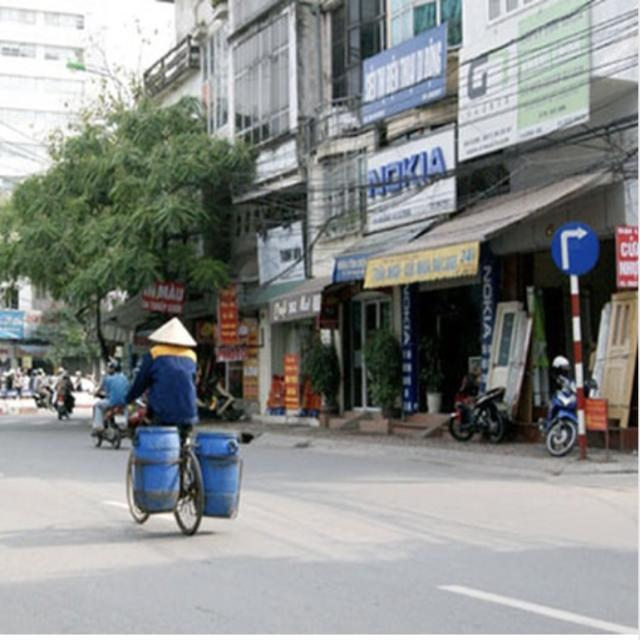301d-cac-xe-chi-duoc-re-phai-2: (550, 220, 600, 276)
